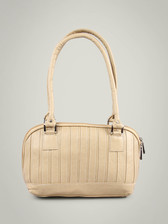bag: (13, 28, 147, 204)
